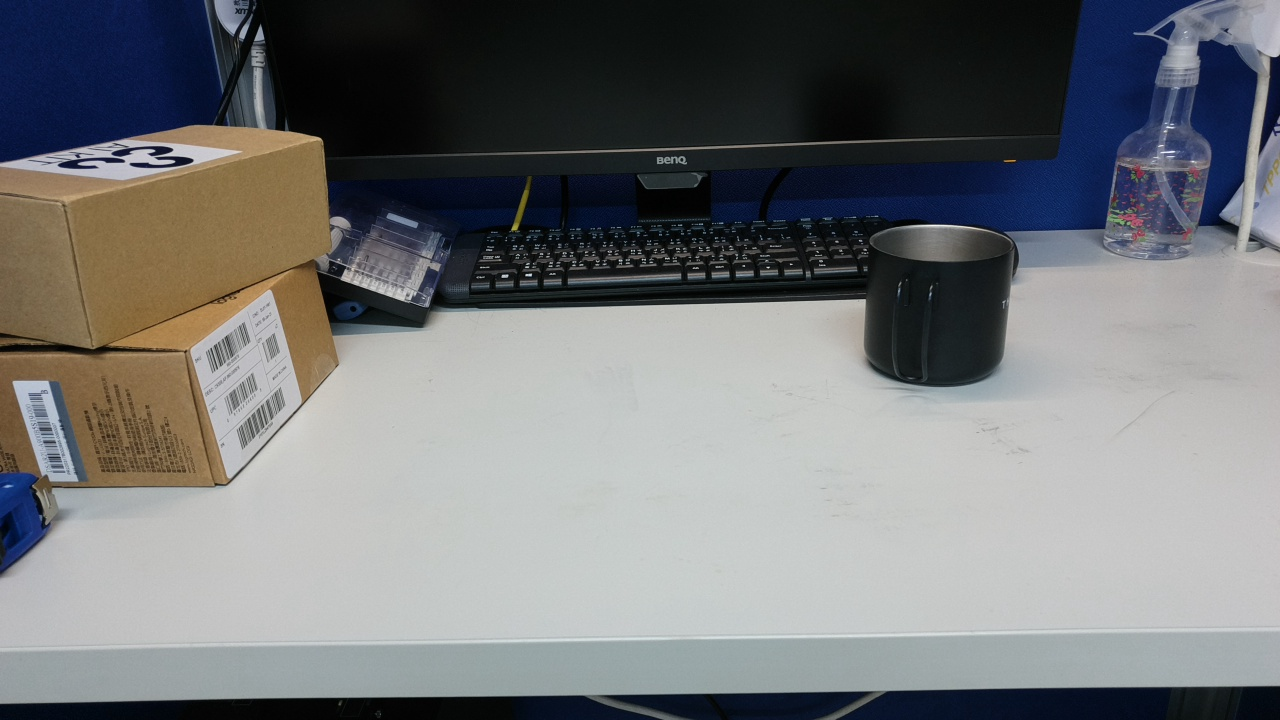circle: (752, 536, 940, 689)
